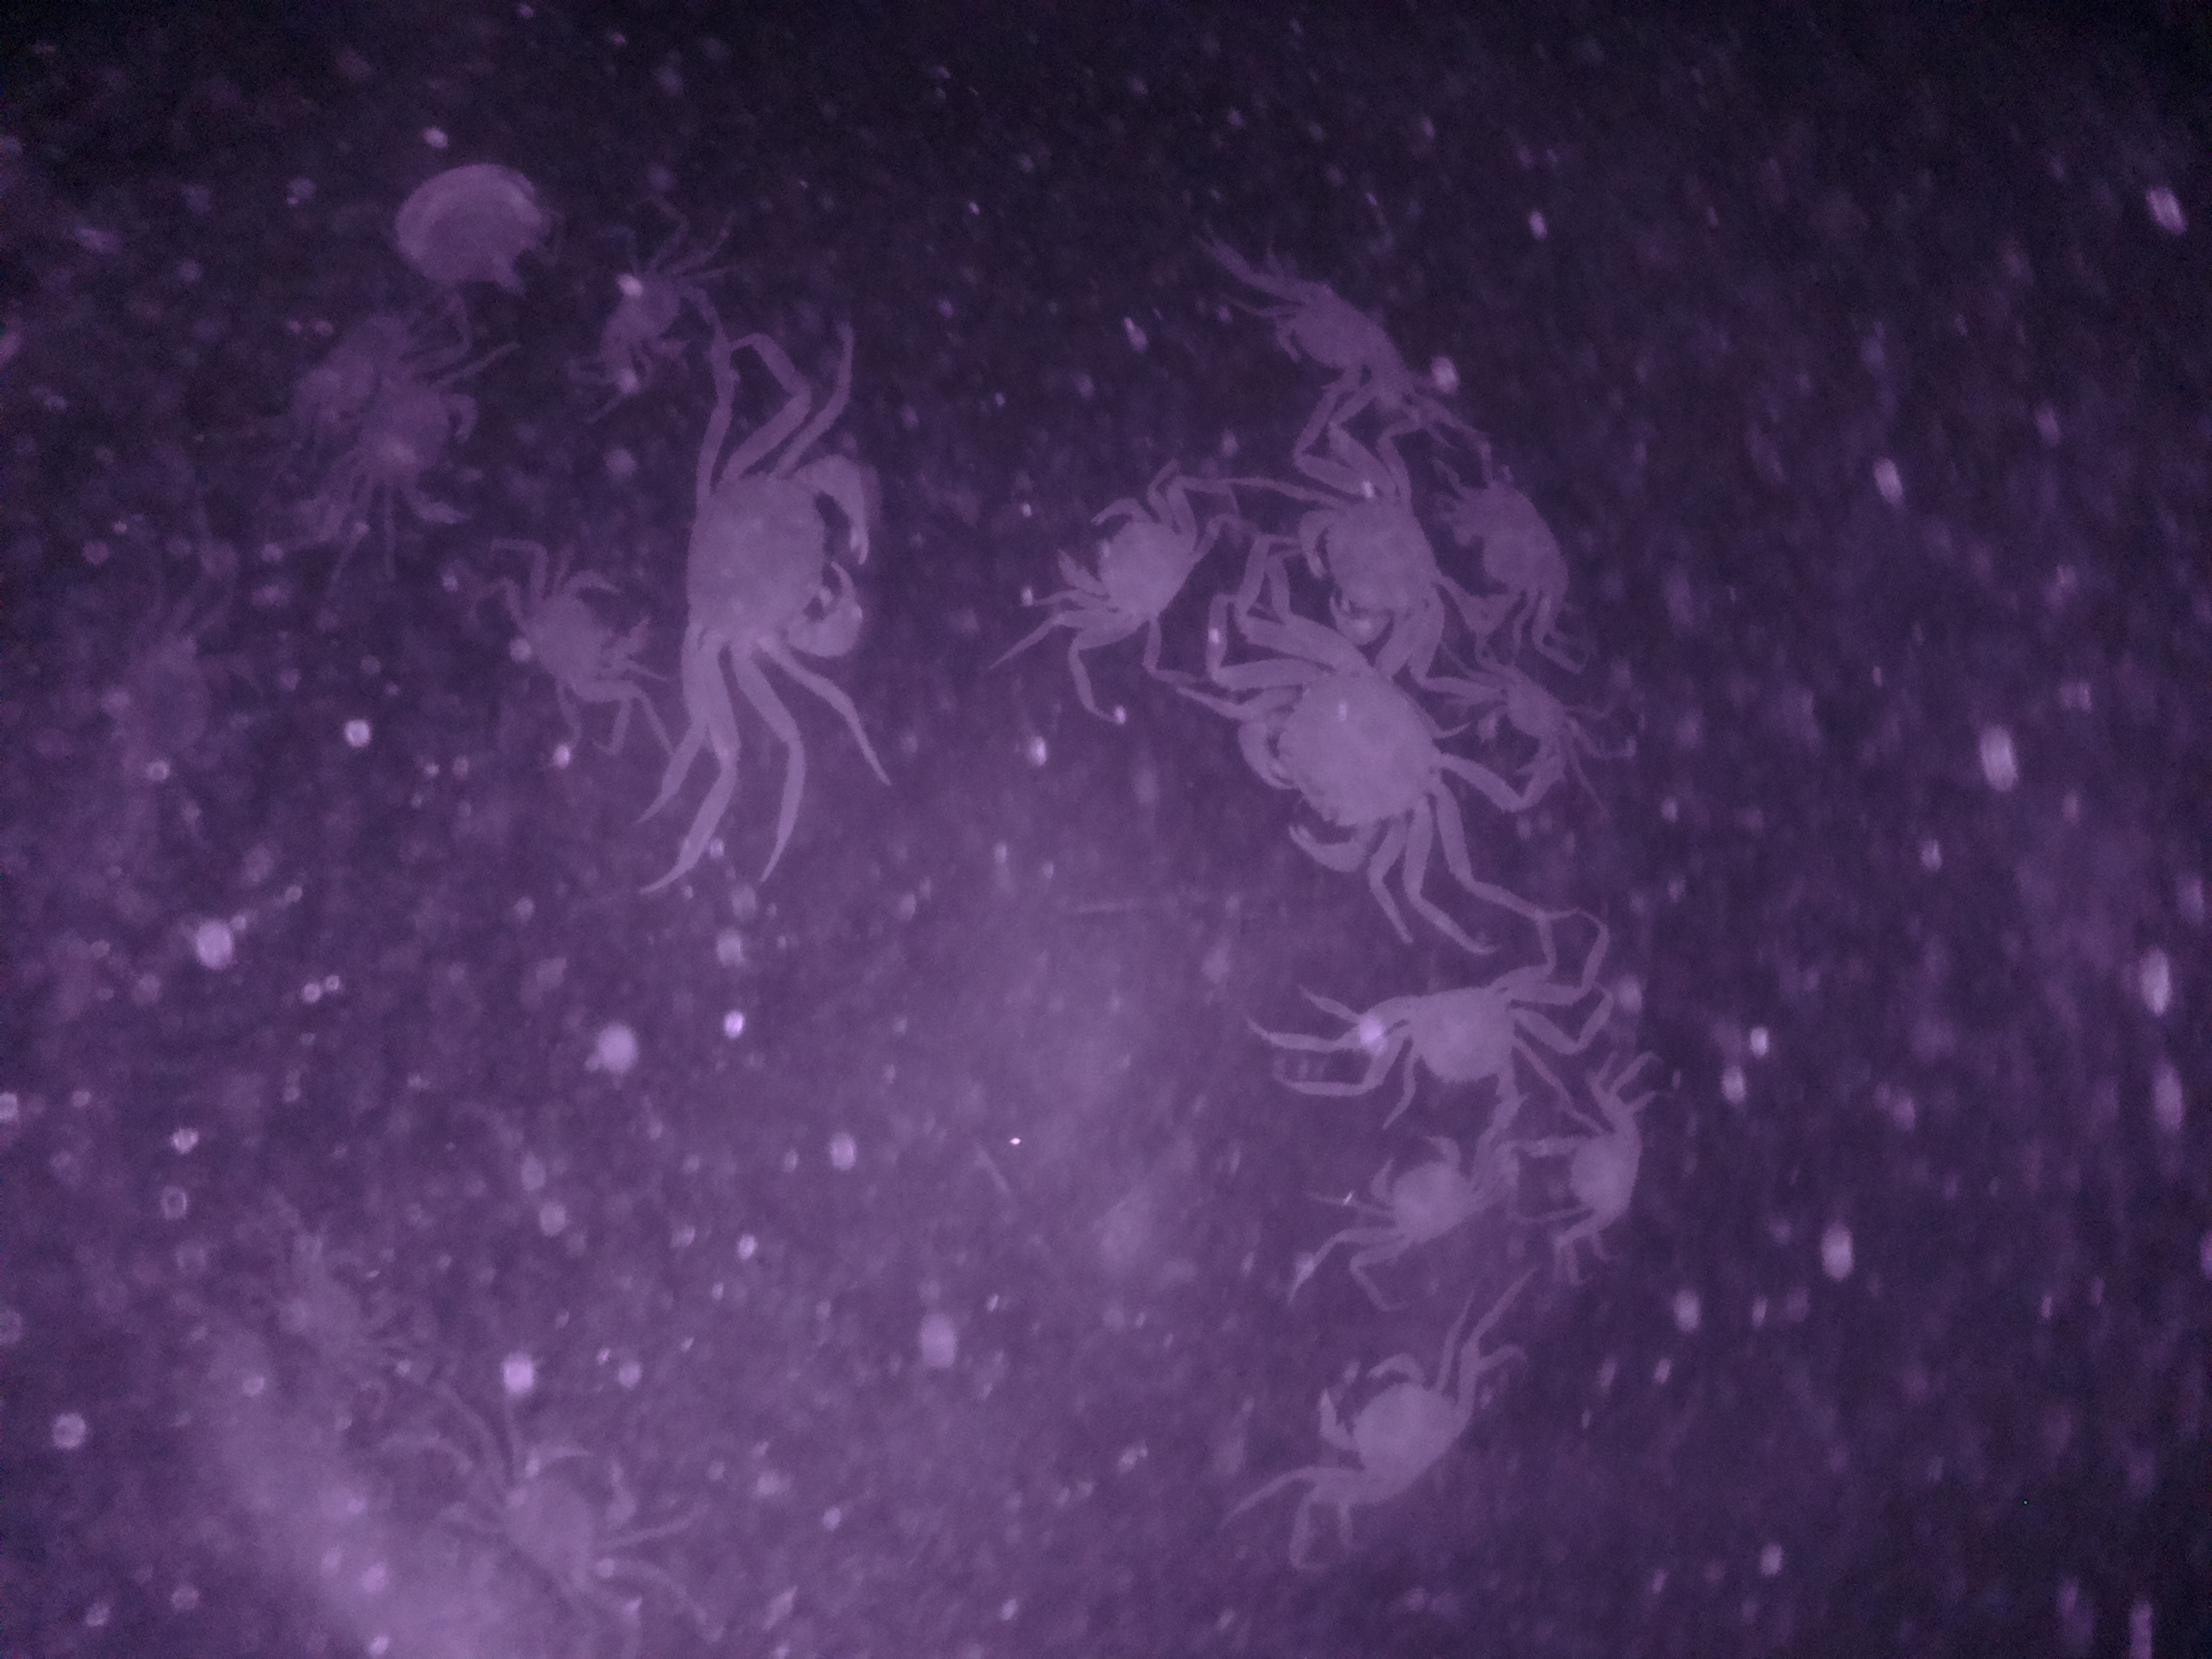Crab: (664, 430, 890, 704), (1226, 620, 1447, 885), (1296, 1328, 1491, 1528), (1040, 464, 1211, 659), (1360, 962, 1552, 1121), (1345, 1117, 1527, 1263), (509, 561, 650, 725), (1258, 261, 1423, 397), (1533, 1086, 1658, 1244)
